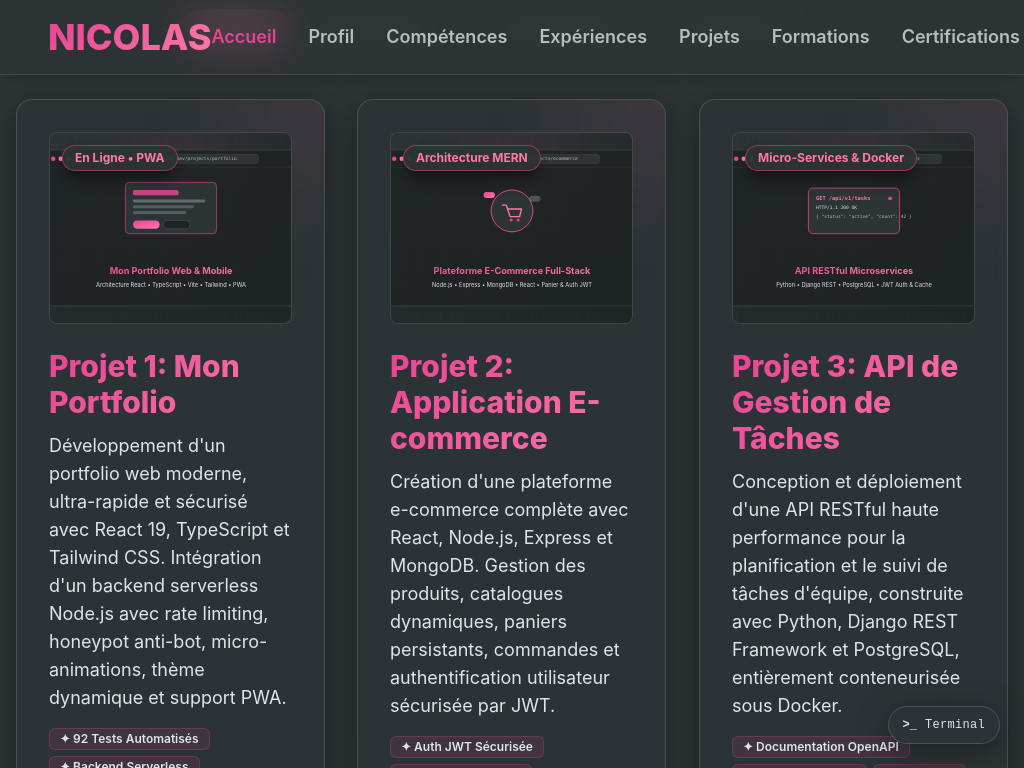
it: opens and closes project modal from project card
(page scrolled)
Click the heading "Projet 1: Mon Portfolio" at (171, 384), box [49, 348, 292, 420]
(page scrolled)
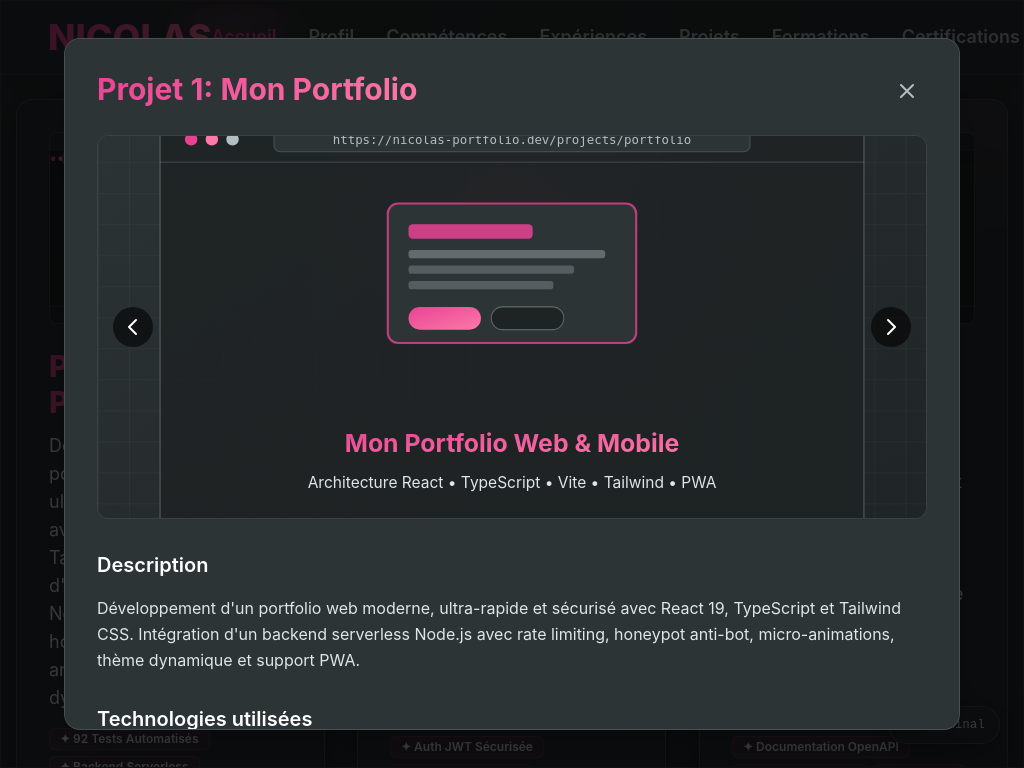
Expected: the dialog is shown
Expected: the heading "Technologies utilisées" is shown, [97, 707, 312, 730]
Expected: the button named "Fermer la modale" is shown
Click the button named "Fermer la modale" at (907, 91), box [887, 71, 927, 111]
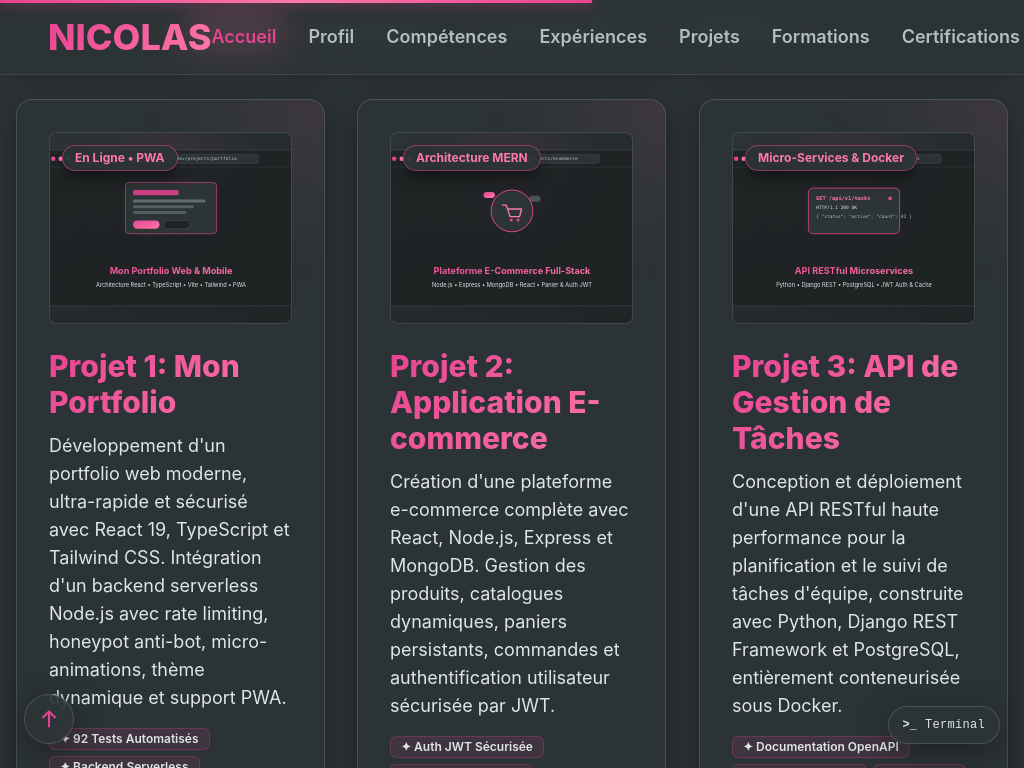
Expected: the dialog is gone
